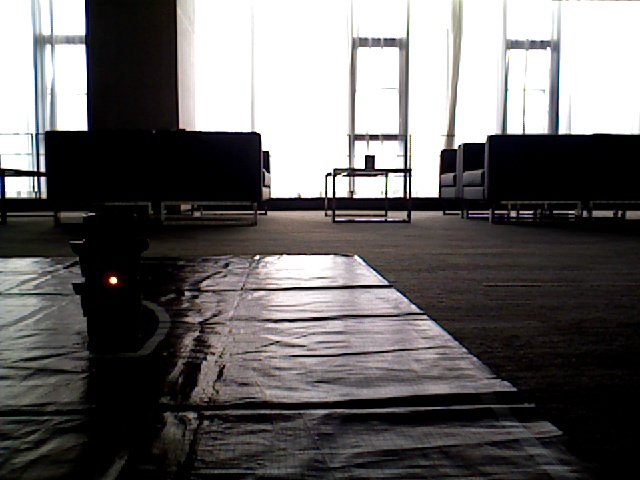yellow: (92, 216, 138, 337)
